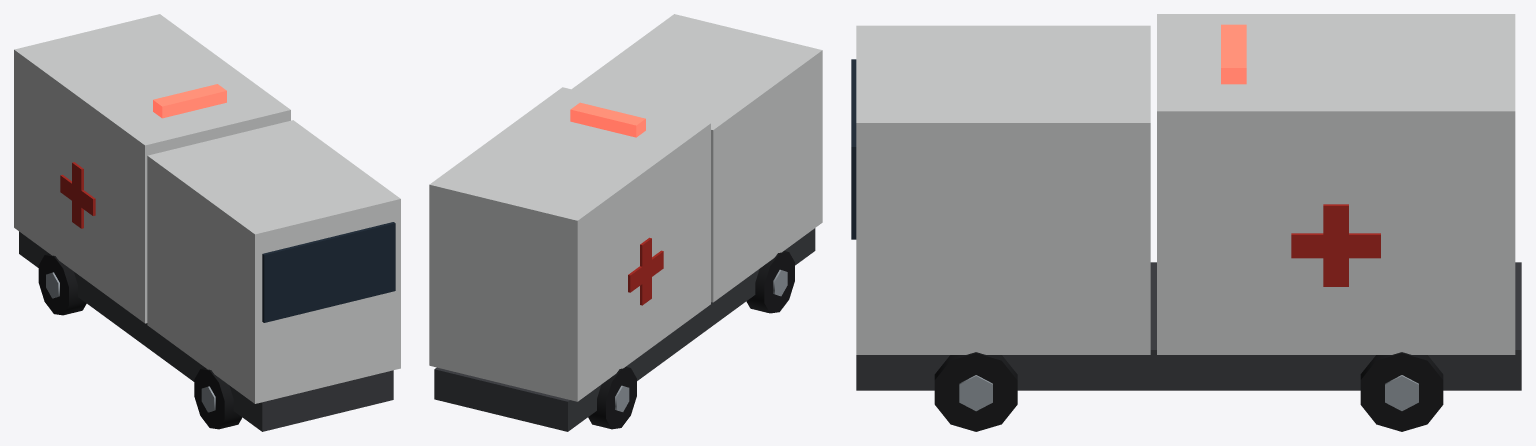
The model's file is veh_ground_ambulance_a08.glb.
3 renders of one model, left to right at view 1: azimuth 30°, elevation 25°; view 2: azimuth 150°, elevation 25°; view 3: azimuth 270°, elevation 25°, orthographic. The views are drawn at different scales.
Parts seen in each view (by area): view 1: body, wheel_0, wheel_2; view 2: body, wheel_0, wheel_2; view 3: body, wheel_1, wheel_3.
Boxes of the visible parts, x1=… form: body: x1=14, y1=14, x2=400, y2=431; wheel_0: x1=38, y1=254, x2=86, y2=315; wheel_2: x1=194, y1=368, x2=242, y2=429; body: x1=429, y1=14, x2=822, y2=431; wheel_0: x1=588, y1=367, x2=636, y2=429; wheel_2: x1=746, y1=251, x2=794, y2=313; body: x1=851, y1=14, x2=1521, y2=390; wheel_1: x1=1360, y1=352, x2=1443, y2=431; wheel_3: x1=934, y1=352, x2=1017, y2=431.
Size of what is drawn, in the model's own units: 1.88 by 2.9 by 5.24.
